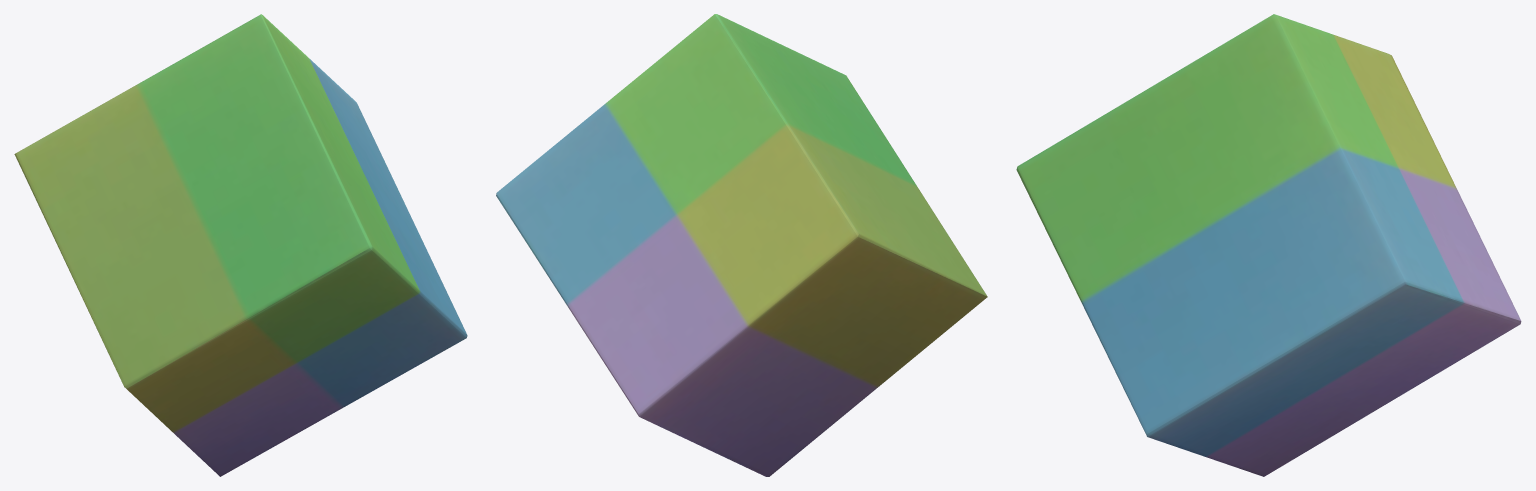
The model's file is Rubik.glb.
3 renders of one model, left to right at view 1: azimuth 30°, elevation 25°; view 2: azimuth 150°, elevation 25°; view 3: azimuth 270°, elevation 25°, orthographic. The views are drawn at different scales.
Parts seen in each view (by area): view 1: Rubik_PROCESSED.001_LOD5; view 2: Rubik_PROCESSED.001_LOD5; view 3: Rubik_PROCESSED.001_LOD5.
Part boxes in pixels (x1,y1,x2,y2): Rubik_PROCESSED.001_LOD5: [14, 14, 467, 476]; Rubik_PROCESSED.001_LOD5: [496, 14, 987, 476]; Rubik_PROCESSED.001_LOD5: [1016, 14, 1521, 476].
Bounding box in the file's own units: 0.9886 × 1.18 × 1.11.
1 material, 1 textured.
